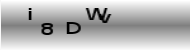8: (40, 21, 54, 35)
D: (65, 20, 81, 34)
W: (85, 6, 108, 21)
i: (28, 6, 32, 21)
v: (99, 12, 111, 23)
